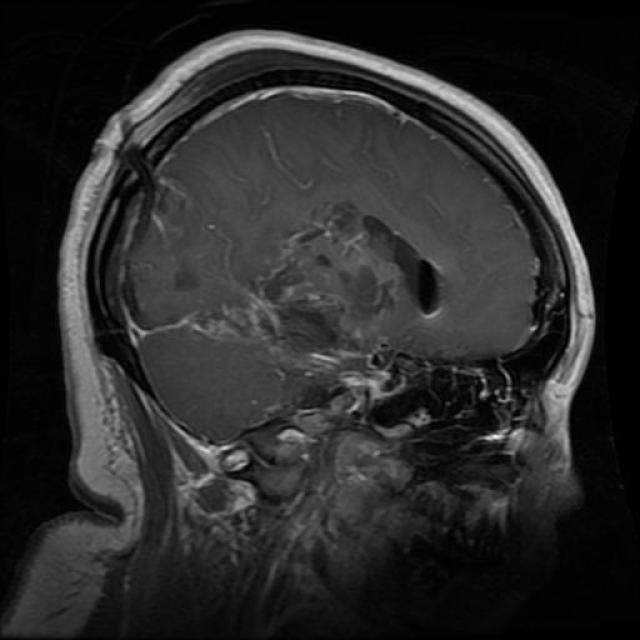glioma: (208, 178, 452, 368)
